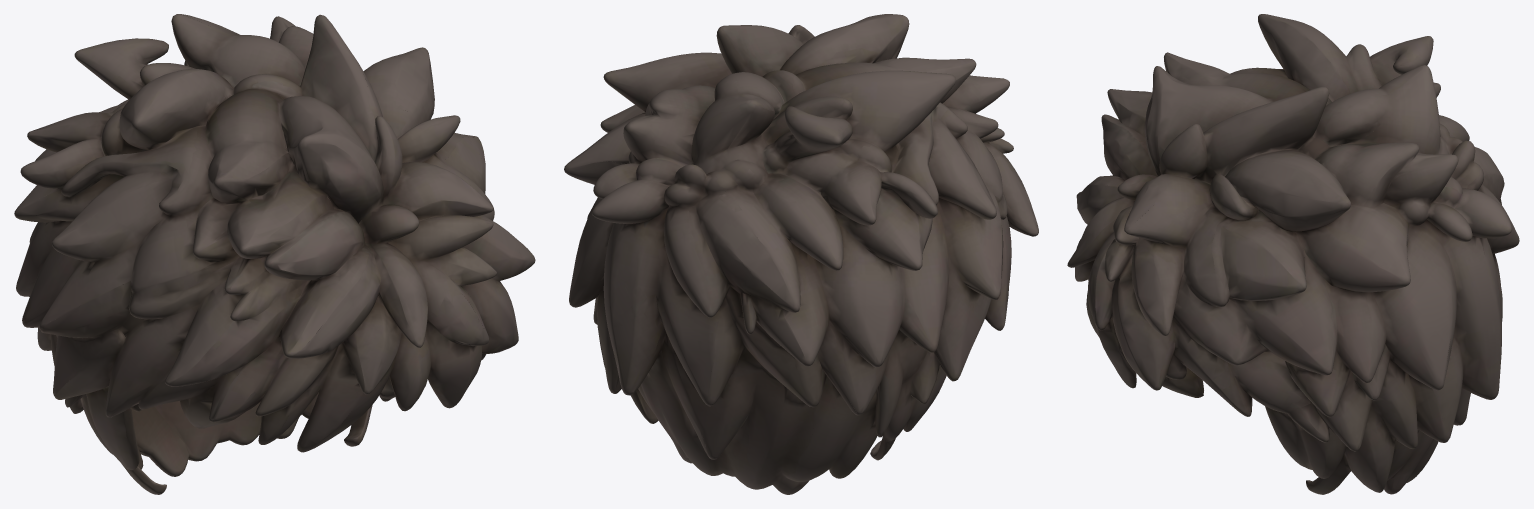
File: hair_m04.glb
3 renders of one model, left to right at view 1: azimuth 30°, elevation 25°; view 2: azimuth 150°, elevation 25°; view 3: azimuth 270°, elevation 25°, orthographic. The views are drawn at different scales.
Parts seen in each view (by area): view 1: hair; view 2: hair; view 3: hair.
Boxes of the visible parts, bbox=[...] form: hair: bbox=[14, 14, 535, 494]; hair: bbox=[564, 14, 1038, 494]; hair: bbox=[1067, 14, 1519, 494].
Size of the model in its own units: 2.54 by 2.54 by 2.5.
Materials: 1 (1 with a texture image).
